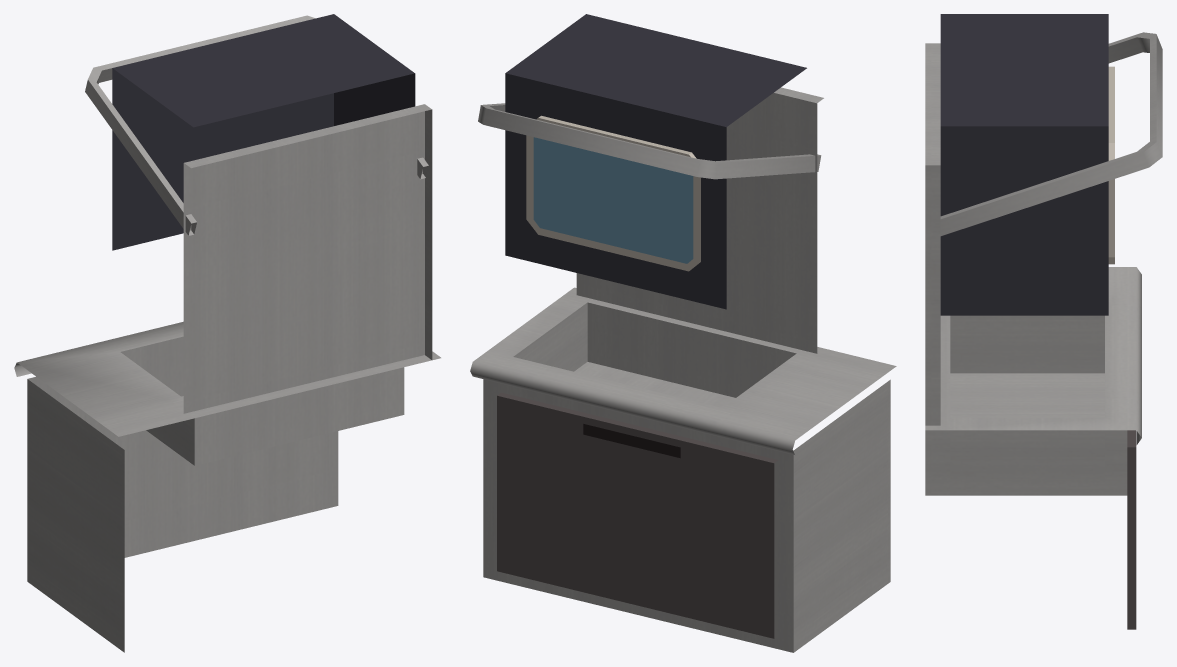
File: interior_B_003.fbx
3 renders of one model, left to right at view 1: azimuth 30°, elevation 25°; view 2: azimuth 150°, elevation 25°; view 3: azimuth 270°, elevation 25°, orthographic. The views are drawn at different scales.
Parts seen in each view (by area): view 1: interior_B_003; view 2: interior_B_003; view 3: interior_B_003.
Part boxes in pixels (left/top/right/bottom): interior_B_003: left=14, top=14, right=440, bottom=652; interior_B_003: left=470, top=14, right=896, bottom=652; interior_B_003: left=925, top=14, right=1162, bottom=629.
Size of the model in its own units: 114 by 169 by 69.64.
Materials: 6 (1 with a texture image).
